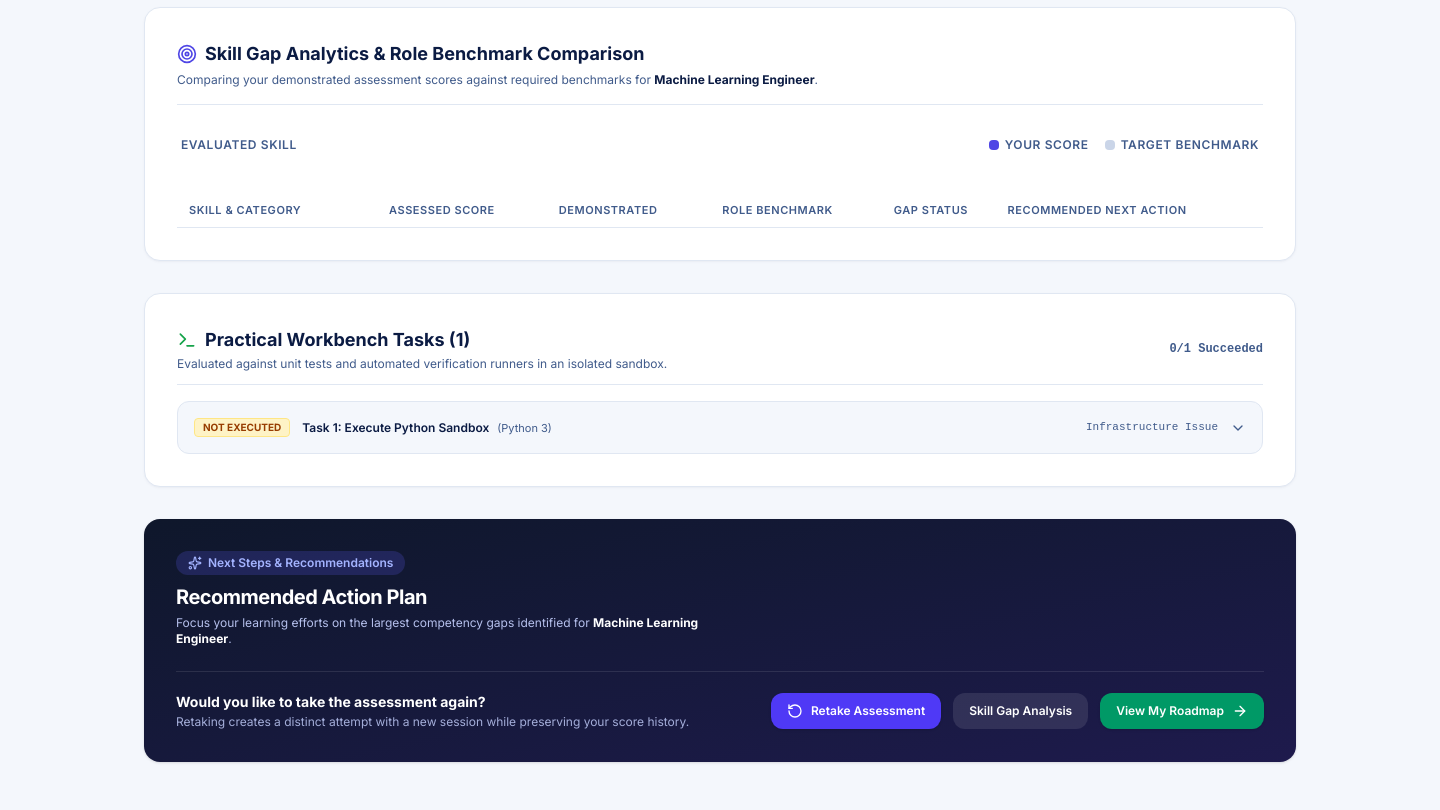
Test: Redesigned ResultsReport Component Suite › 3. Clearly displays NOT EXECUTED and infrastructure notice when runtime is unavailable
(page scrolled)
Expected: the text "NOT EXECUTED" is shown, [194,418,290,438]
# Click to expand collapsible task panel
Click the text "Task 1: Execute Python Sandbox".
click(317, 427)  # box [302,420,489,435]
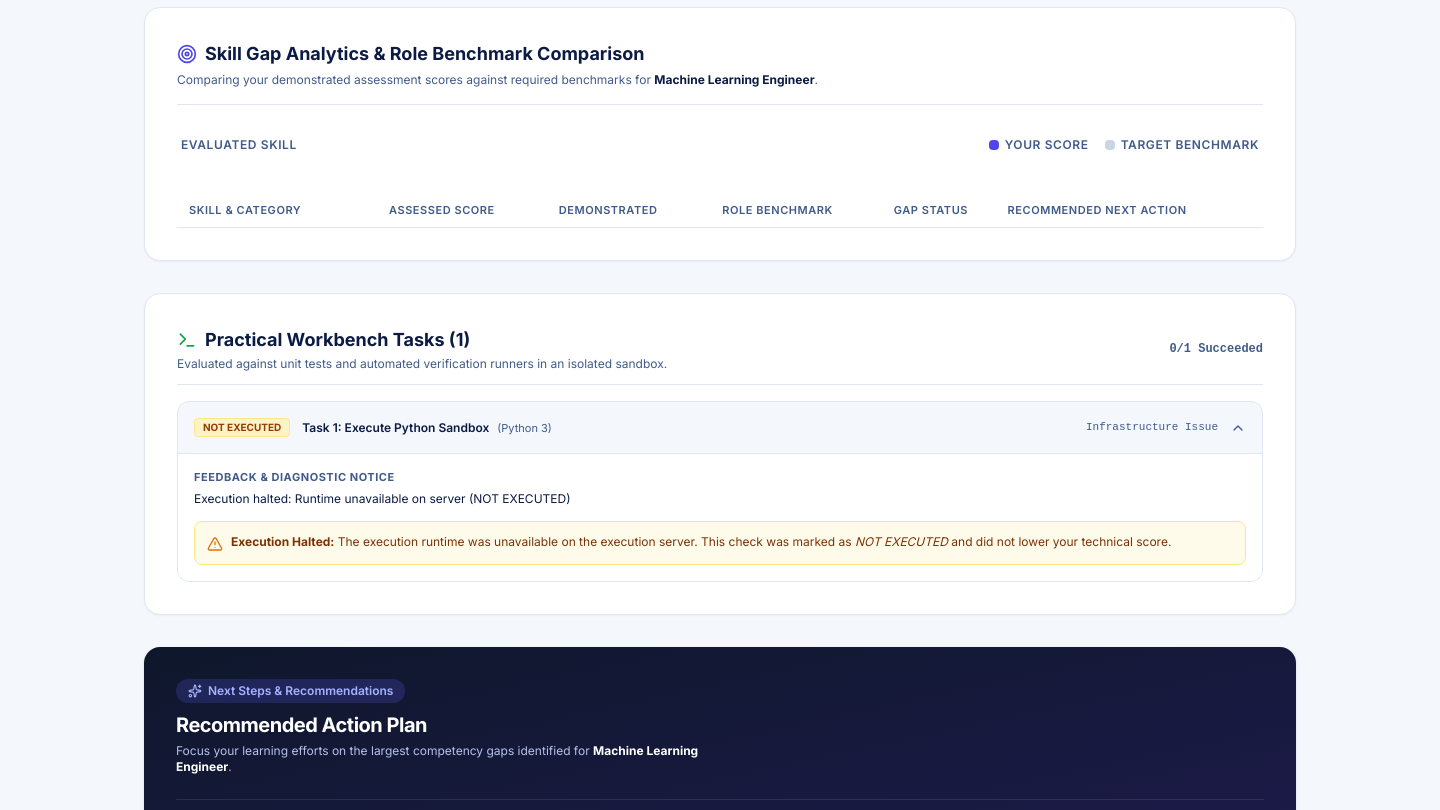
Now the text "Execution halted: Runtime unavailable on server" is shown, box [194,491,571,506]
